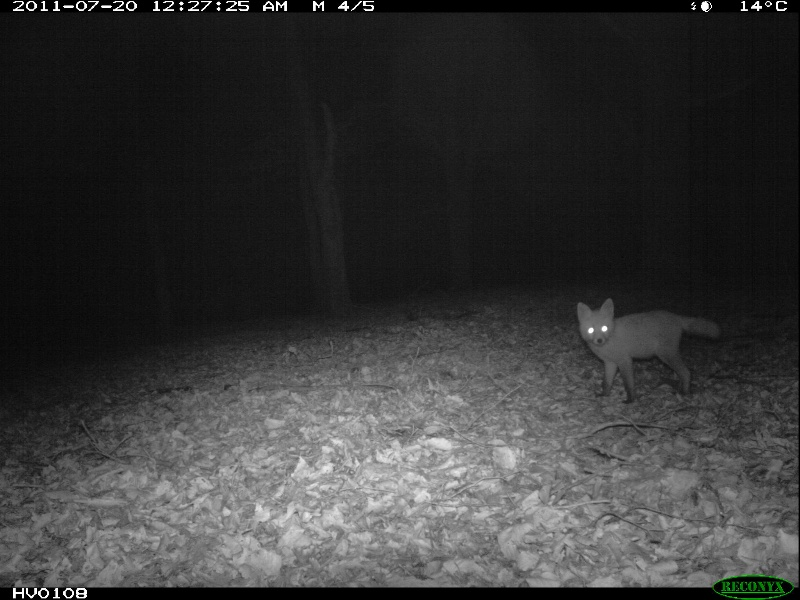fox: (571, 295, 719, 404)
